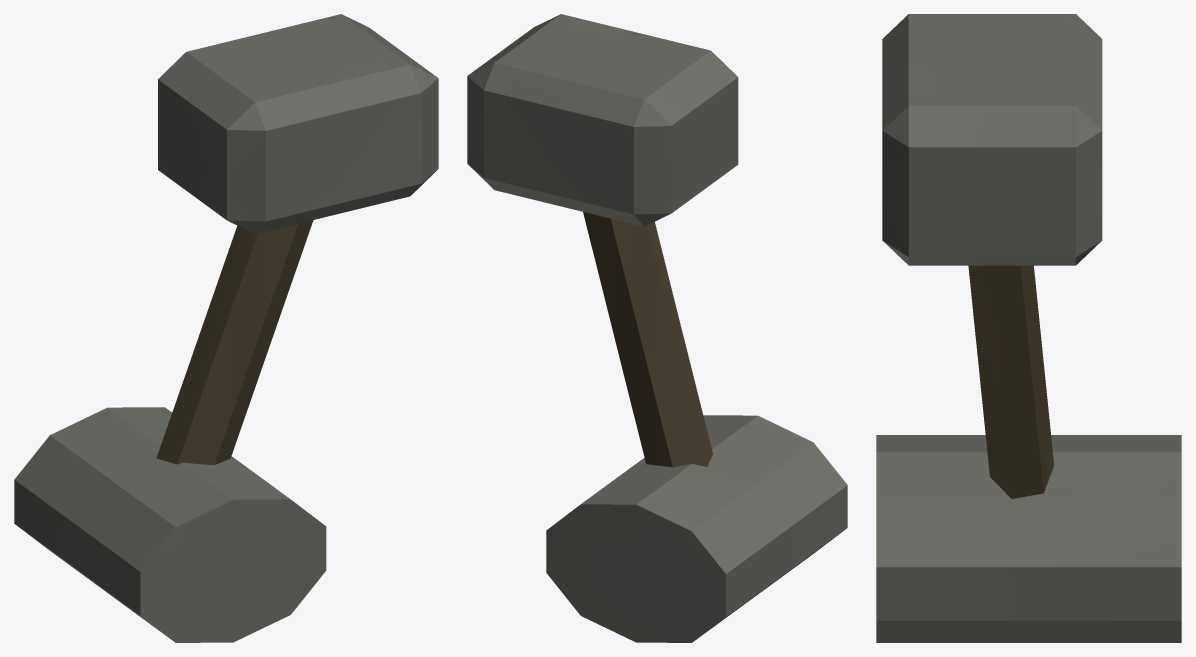
The model's file is WarrensC_WVC035_LoftLeverSkin_Mars_SM.fbx.
3 views of the same model, side by side, from view 1: azimuth 30°, elevation 25°; view 2: azimuth 150°, elevation 25°; view 3: azimuth 270°, elevation 25° (orthographic). The views are drawn at different scales.
Visible parts, largest first — view 1: WarrensC_WVC035_LoftLeverSkin_Mars_SM.001; view 2: WarrensC_WVC035_LoftLeverSkin_Mars_SM.001; view 3: WarrensC_WVC035_LoftLeverSkin_Mars_SM.001.
Boxes of the visible parts, x1,y1,x2,y2 form: WarrensC_WVC035_LoftLeverSkin_Mars_SM.001: [14, 14, 438, 642]; WarrensC_WVC035_LoftLeverSkin_Mars_SM.001: [467, 14, 847, 642]; WarrensC_WVC035_LoftLeverSkin_Mars_SM.001: [876, 14, 1181, 642].
Size of the model in its own units: 50 by 35 by 80.
